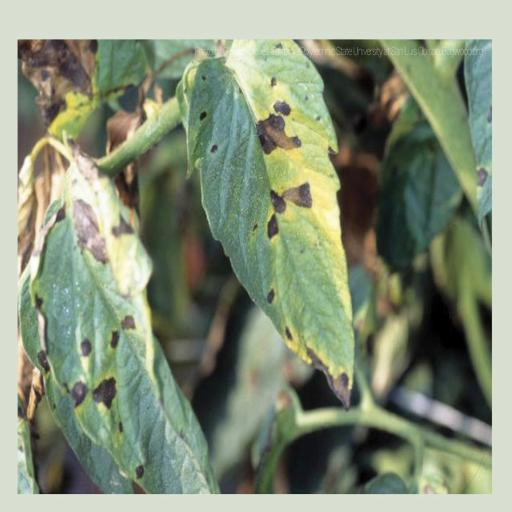Early Blight: (32, 148, 218, 492), (186, 40, 356, 412)
